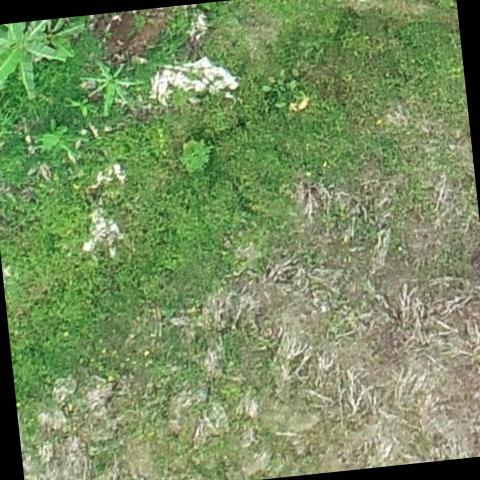Banana-plant: (0, 17, 70, 109), (71, 49, 150, 120), (30, 110, 90, 161)
